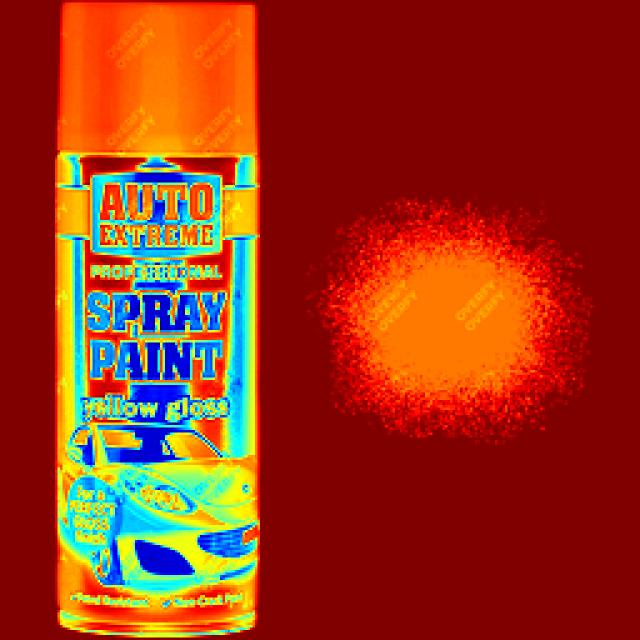Aerosol Cans: (55, 0, 262, 619)
